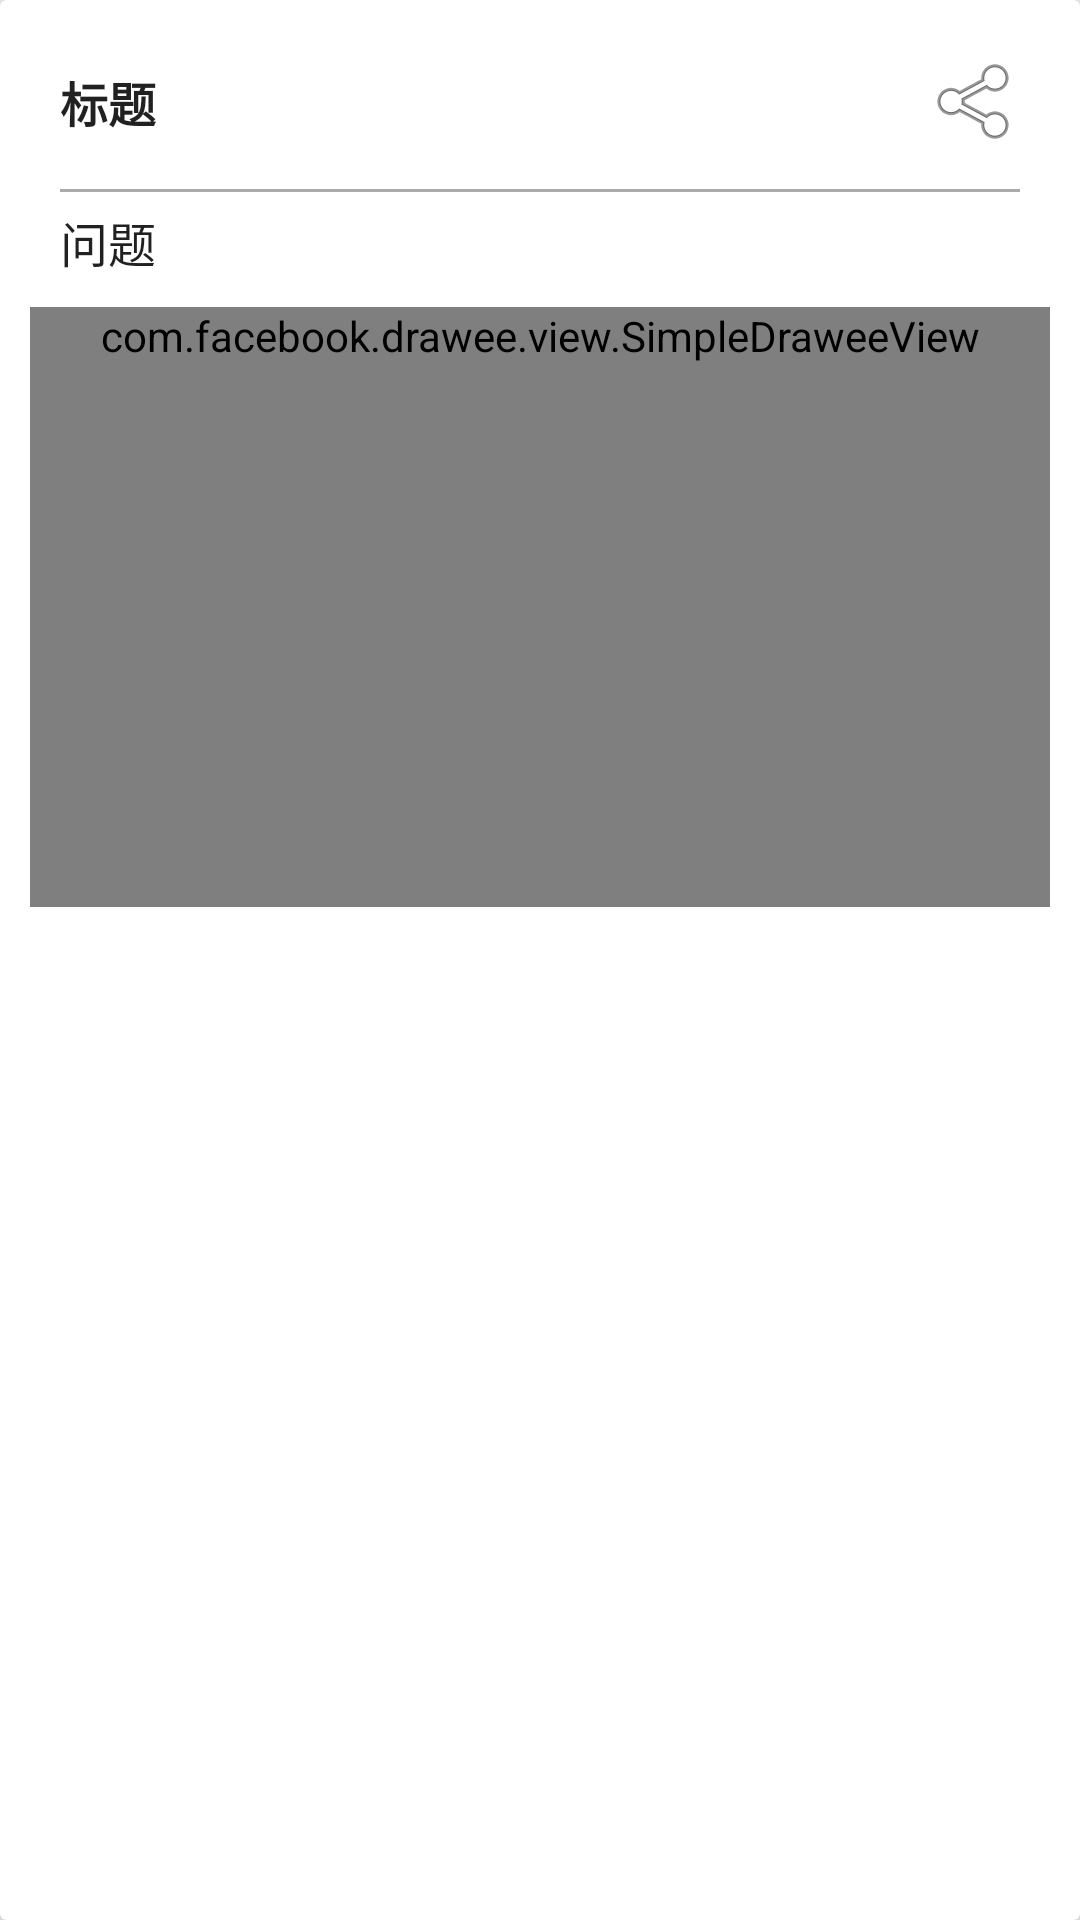

Where to tap for icons on this 1080 x 1920 app screen, as [x,y]:
share: [973,101]
